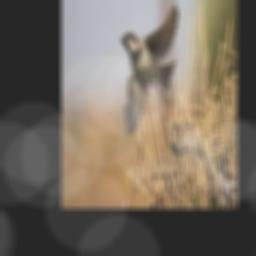Sparrow: (120, 1, 178, 134)
